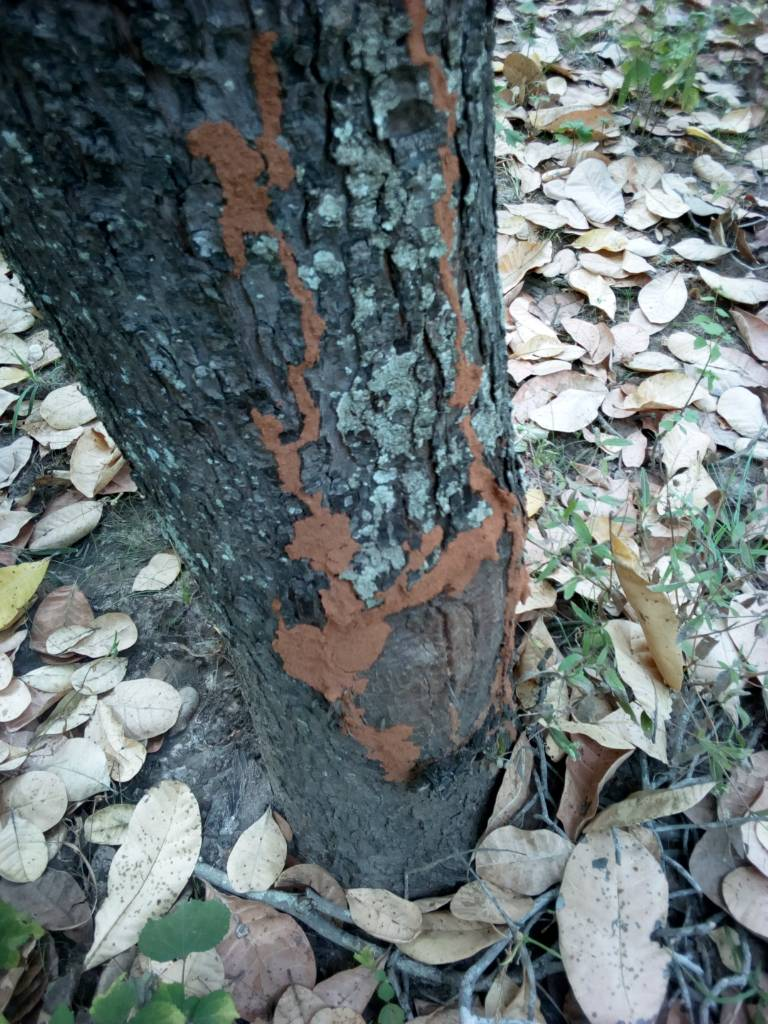Virose: (170, 41, 423, 836), (382, 22, 624, 749)
